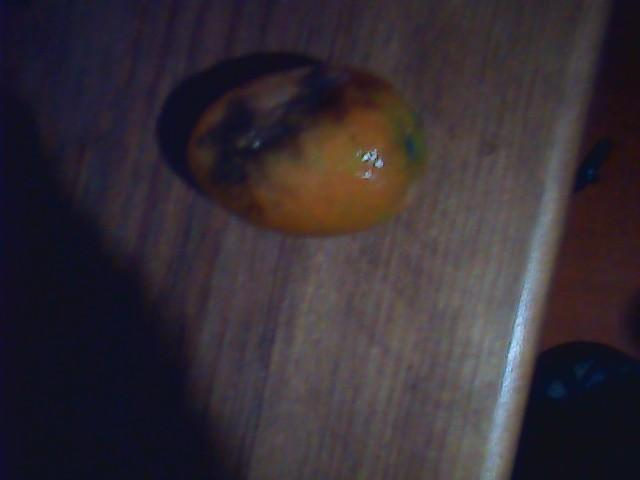defectuoso: (190, 58, 428, 233)
